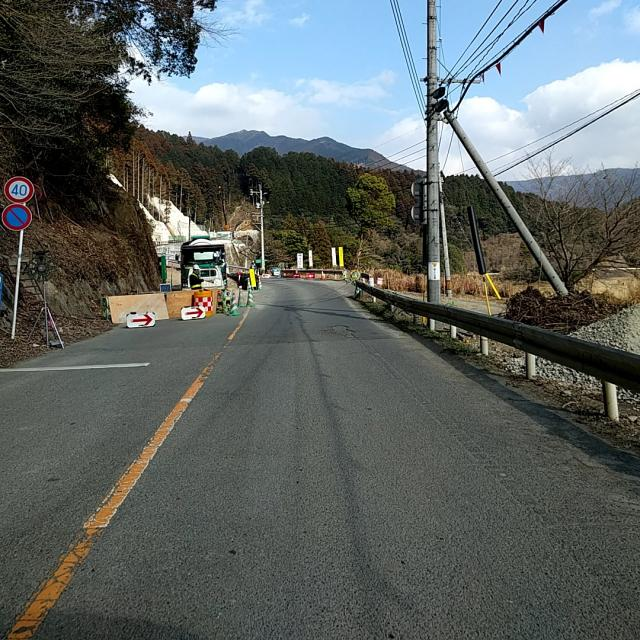pothole: (329, 314, 441, 417), (45, 529, 120, 592)
